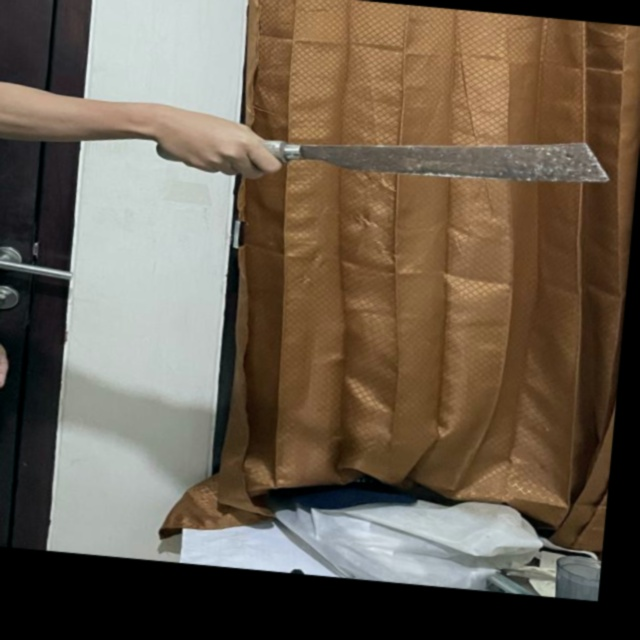Sharp-Object: (259, 111, 617, 195)
